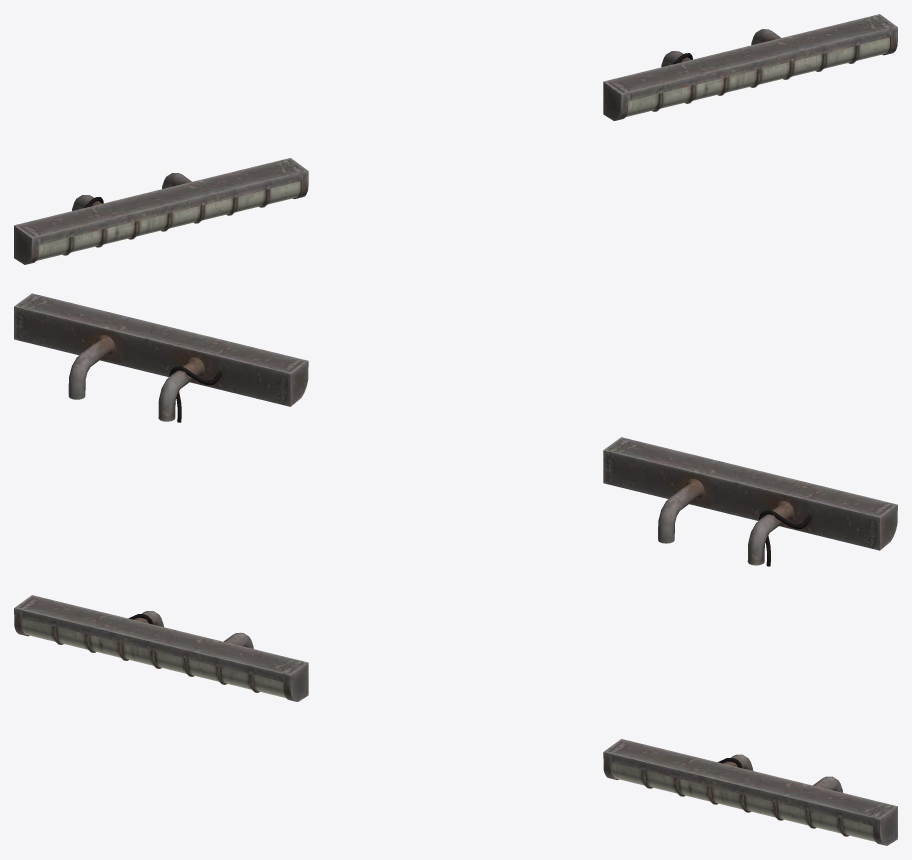
The model's file is weaponracklightdouble.glb.
The picture shows the model from 3 angles, top to bottom: view 1: azimuth 30°, elevation 25°; view 2: azimuth 150°, elevation 25°; view 3: azimuth 330°, elevation 25°; orthographic projection.
Visible parts, largest first — view 1: WallRackLightFittingOn (×2); view 2: WallRackLightFittingOn (×2); view 3: WallRackLightFittingOn (×2).
Boxes of the visible parts, <box> form: WallRackLightFittingOn (×2): <box>14,14,897,264</box>; WallRackLightFittingOn (×2): <box>14,293,897,566</box>; WallRackLightFittingOn (×2): <box>14,595,897,845</box>.
Size of the model in its own units: 1.76 by 0.0916 by 0.181.
1 material, 1 textured.
